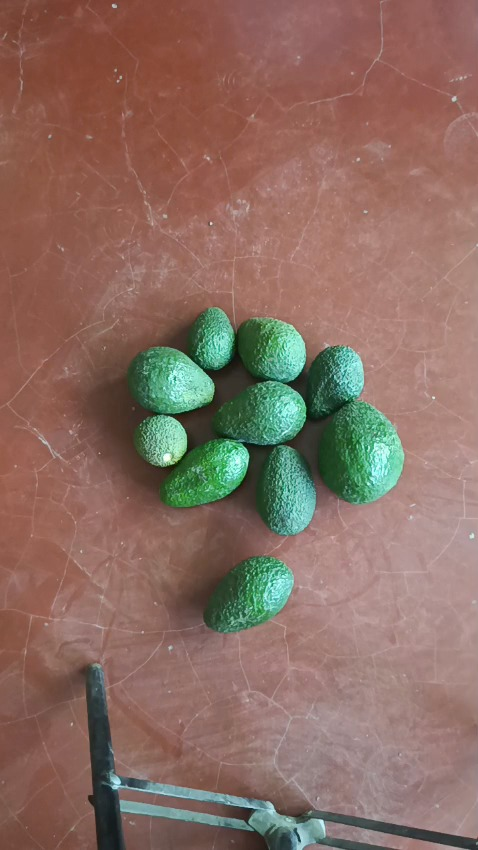Primera: (317, 401, 404, 503)
Segunda: (204, 555, 294, 632), (159, 438, 249, 508), (126, 347, 216, 415), (211, 381, 306, 445), (255, 444, 315, 534), (236, 316, 306, 382)
Tercera: (304, 345, 364, 419), (187, 306, 235, 371), (133, 414, 187, 467)
